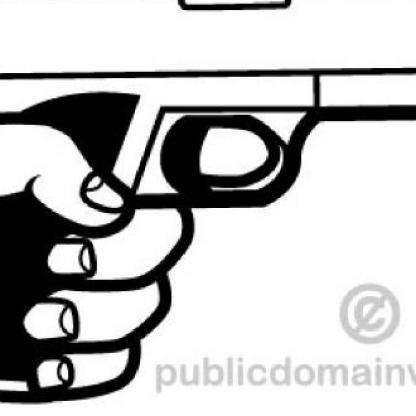gun: (0, 0, 415, 400)
